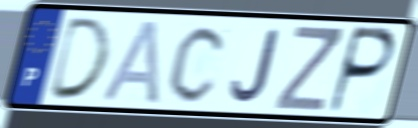A: (99, 17, 162, 106)
C: (165, 22, 230, 105)
D: (44, 15, 114, 101)
J: (228, 28, 281, 106)
P: (325, 24, 398, 116)
Z: (272, 23, 345, 114)
